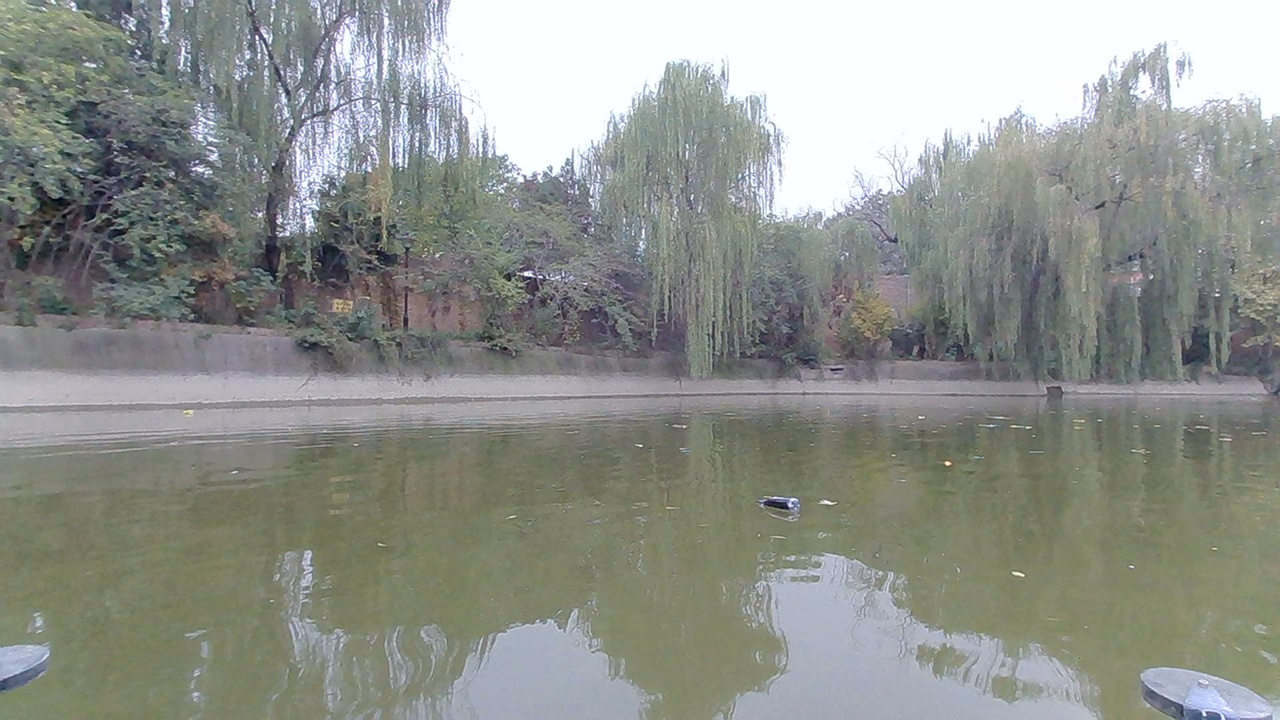bottle: (757, 488, 811, 522)
